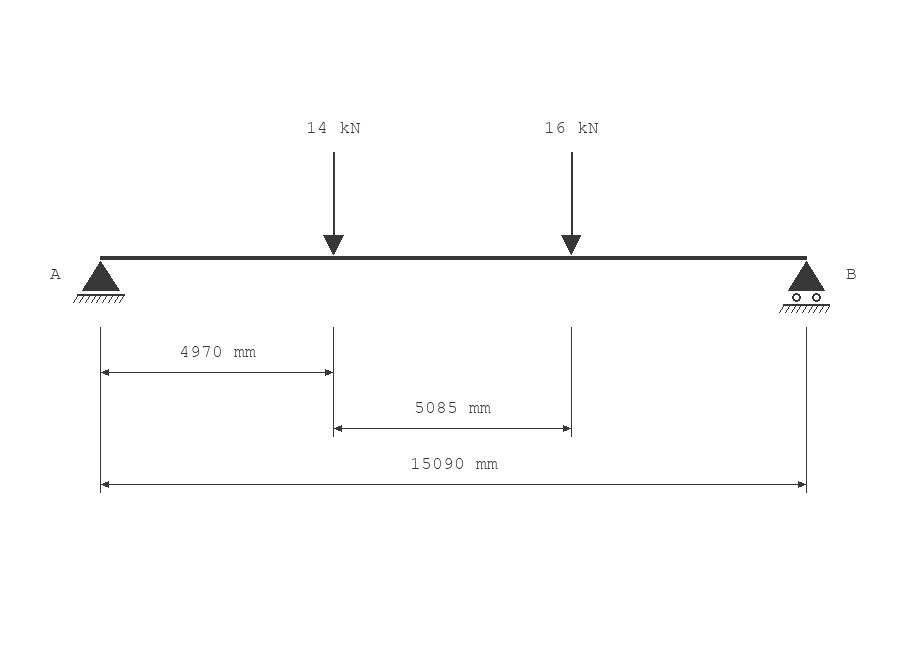pin_support: (73, 261, 125, 303)
point_load: (323, 152, 344, 255), (561, 152, 581, 255)
roller_support: (779, 261, 830, 313)
